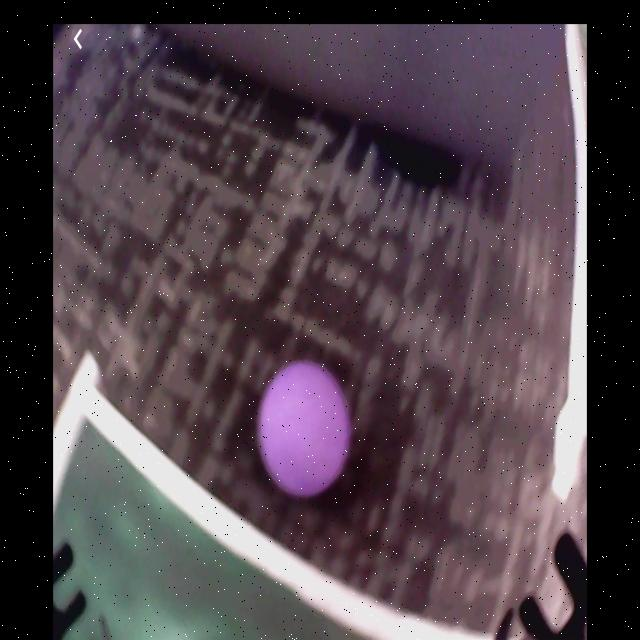ball: (259, 362, 353, 503)
